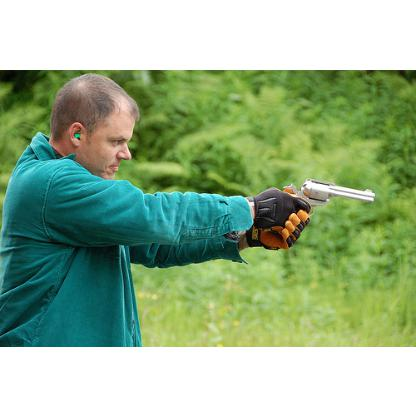gun: (266, 176, 378, 246)
